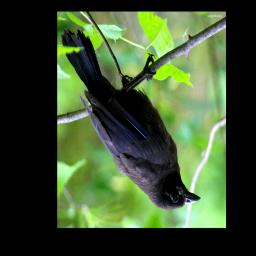Crow: (60, 28, 201, 211)
